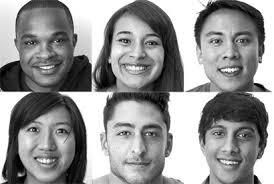Human Face: (107, 100, 172, 184), (16, 8, 79, 85), (199, 117, 269, 183), (201, 12, 260, 89), (15, 111, 80, 180), (109, 15, 169, 87)
